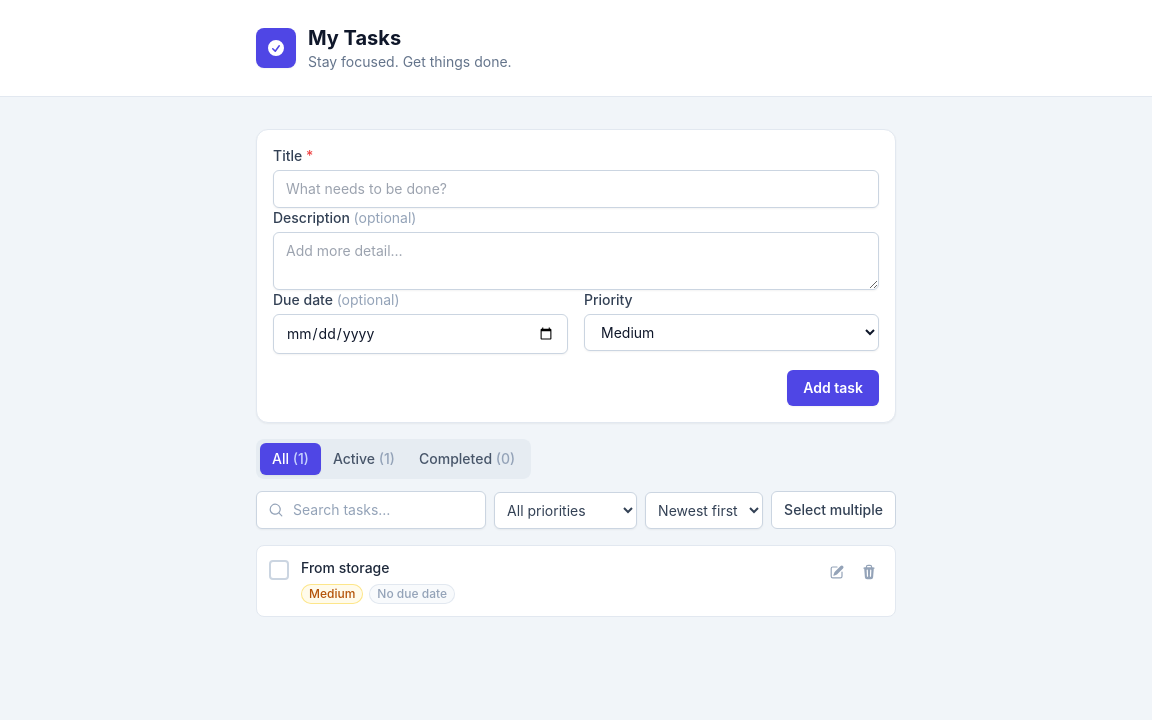
Scenario: App › marks a task complete and it moves to the Completed tab
Click the checkbox named "Mark \"From storage\" as complete": (279, 570) top-left (269, 560), bottom-right (289, 580)
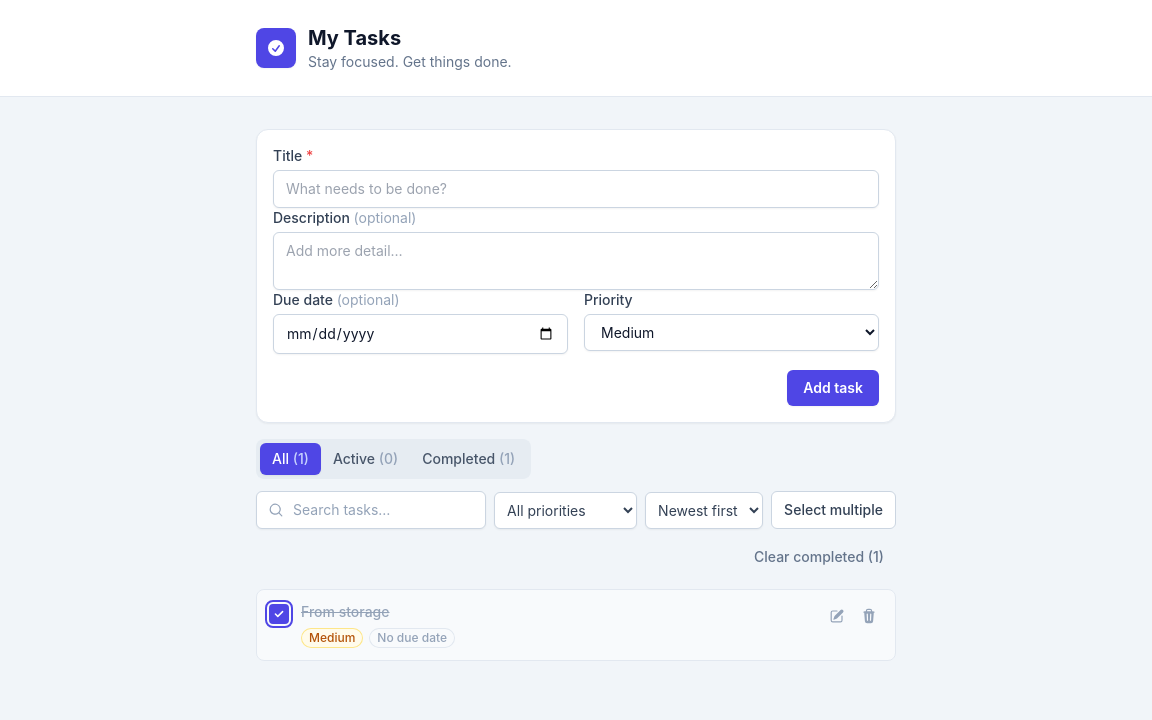
Expected: the checkbox named "Mark \"From storage\" as active" is shown, top-left (269, 604), bottom-right (289, 624)
Click the tab "Completed (1)": (469, 459) top-left (410, 443), bottom-right (527, 475)
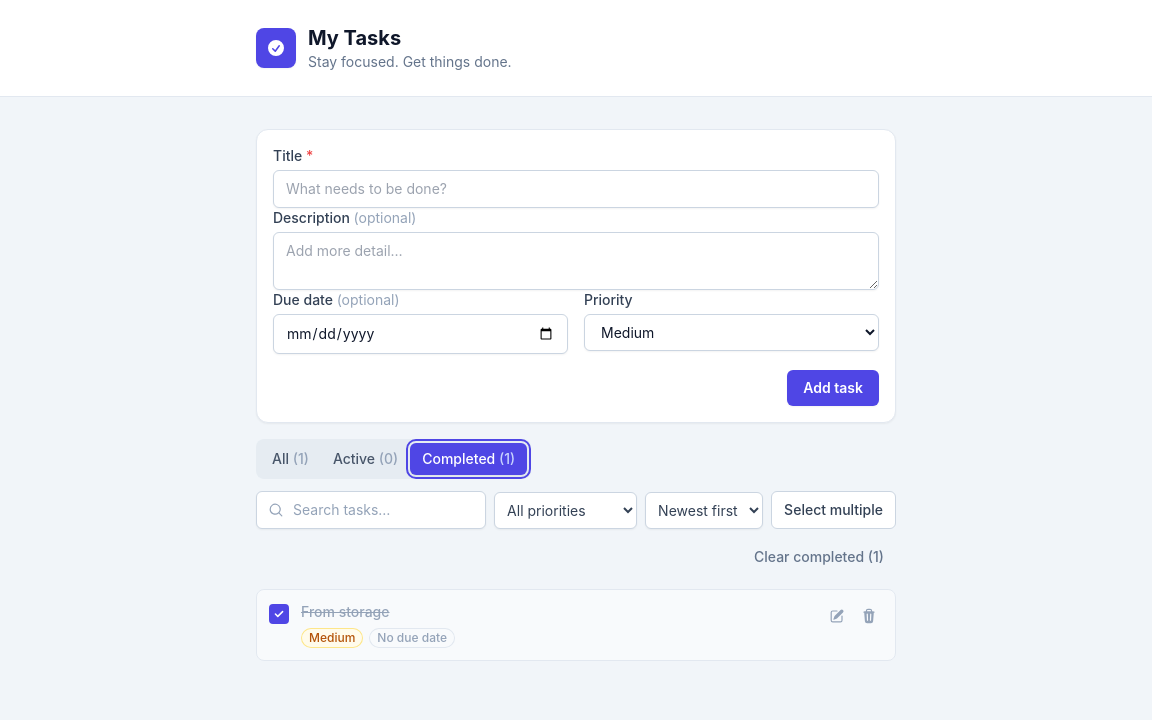
Expected: the text "From storage" is shown, top-left (301, 603), bottom-right (390, 620)
Click the tab "Active (0)": (366, 459) top-left (321, 443), bottom-right (410, 475)
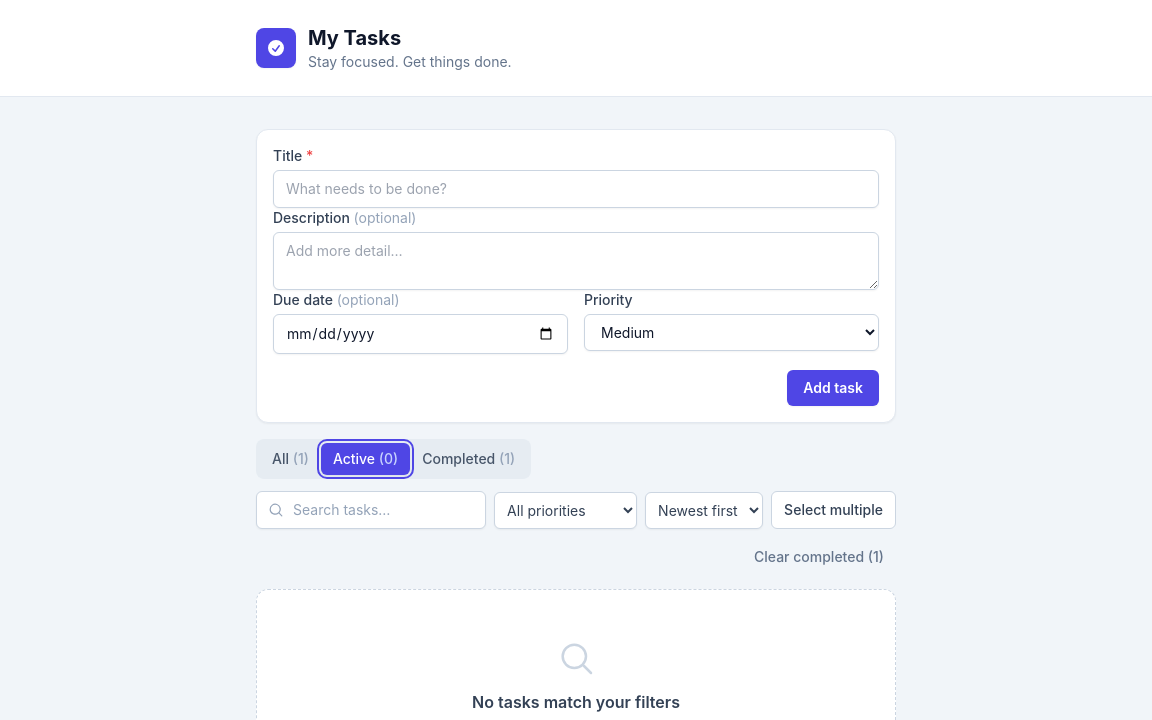
Expected: the text "From storage" is gone
